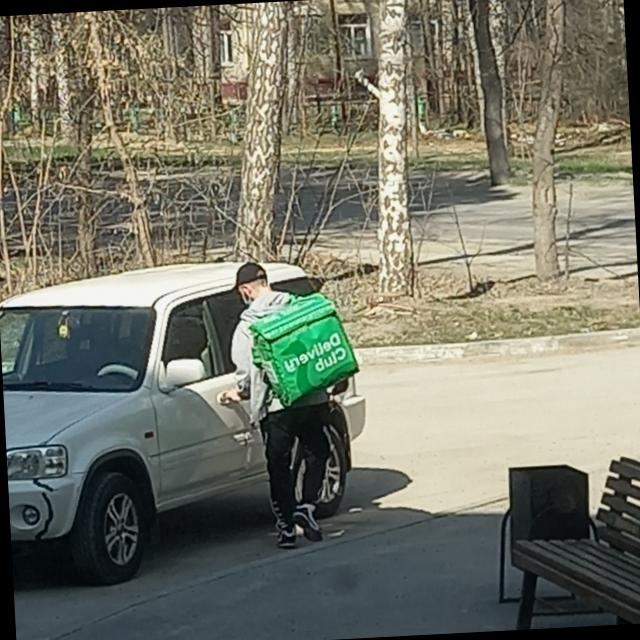person: (210, 256, 348, 551)
